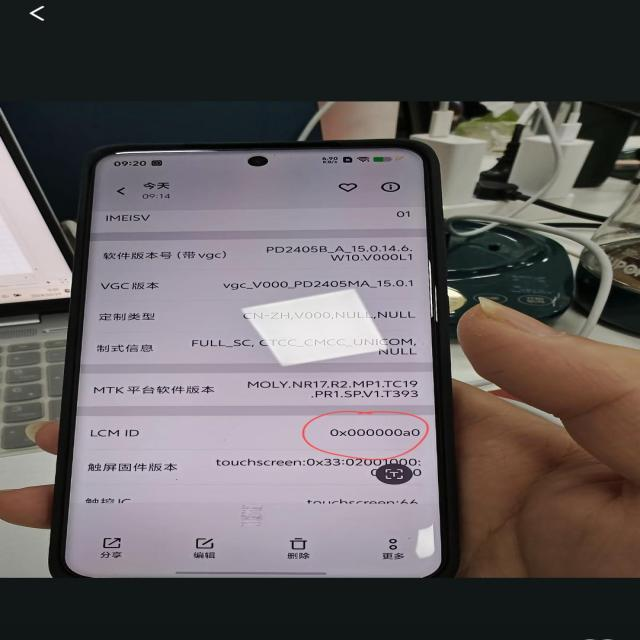mobile_phone: (43, 138, 480, 595)
